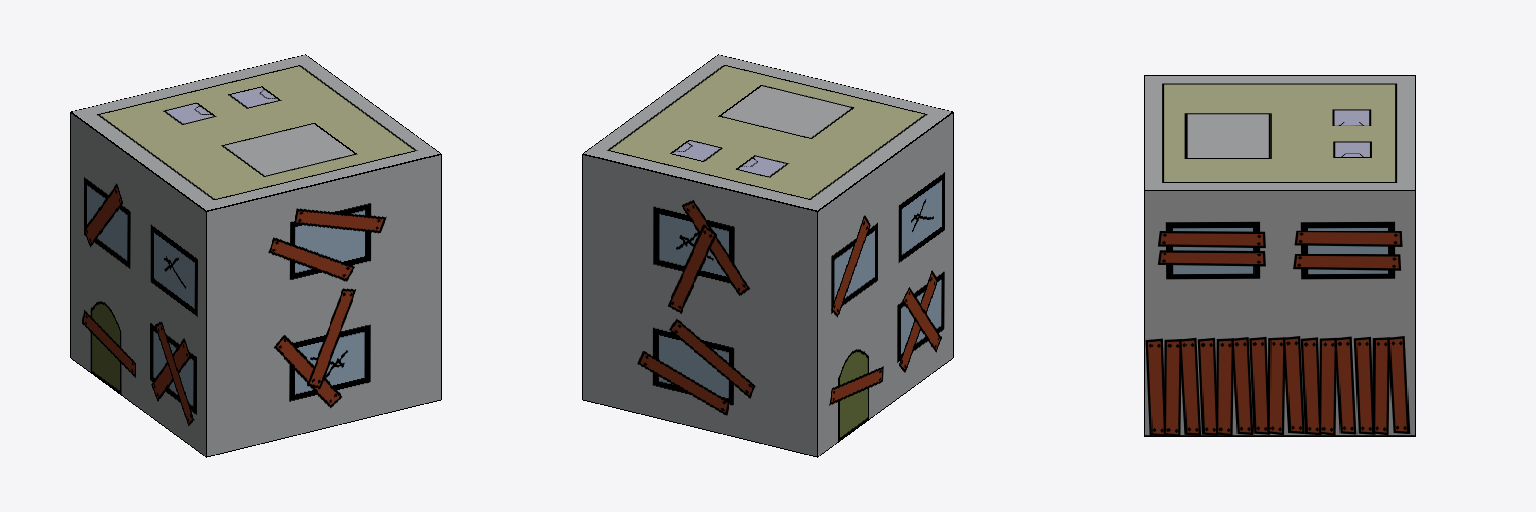
3 renders of one model, left to right at view 1: azimuth 30°, elevation 25°; view 2: azimuth 150°, elevation 25°; view 3: azimuth 270°, elevation 25°, orthographic.
Size of the model in its own units: 1.2 by 1.2 by 1.2.
4 materials, 4 textured.